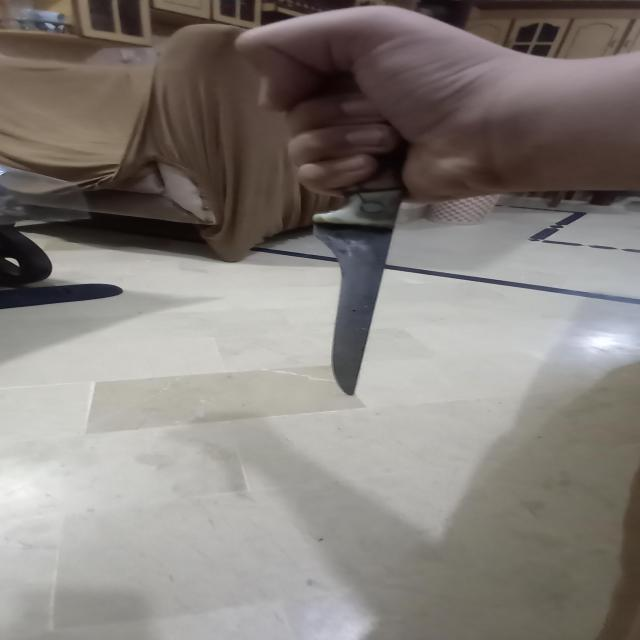Knife: (256, 27, 468, 407)
